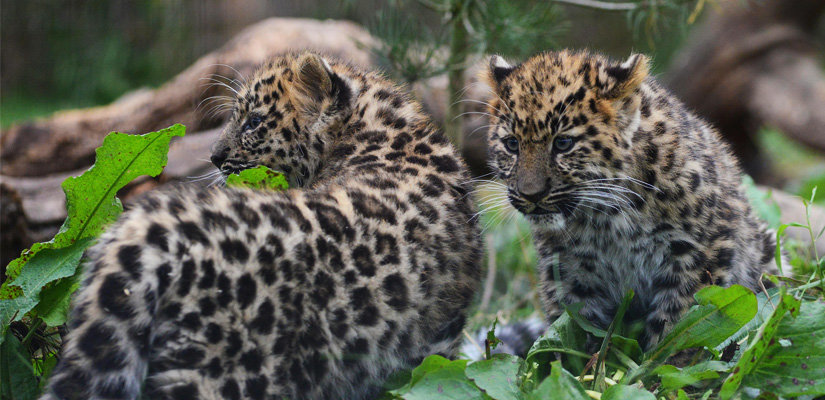amur_leopard: (467, 42, 676, 231), (188, 38, 436, 184)
